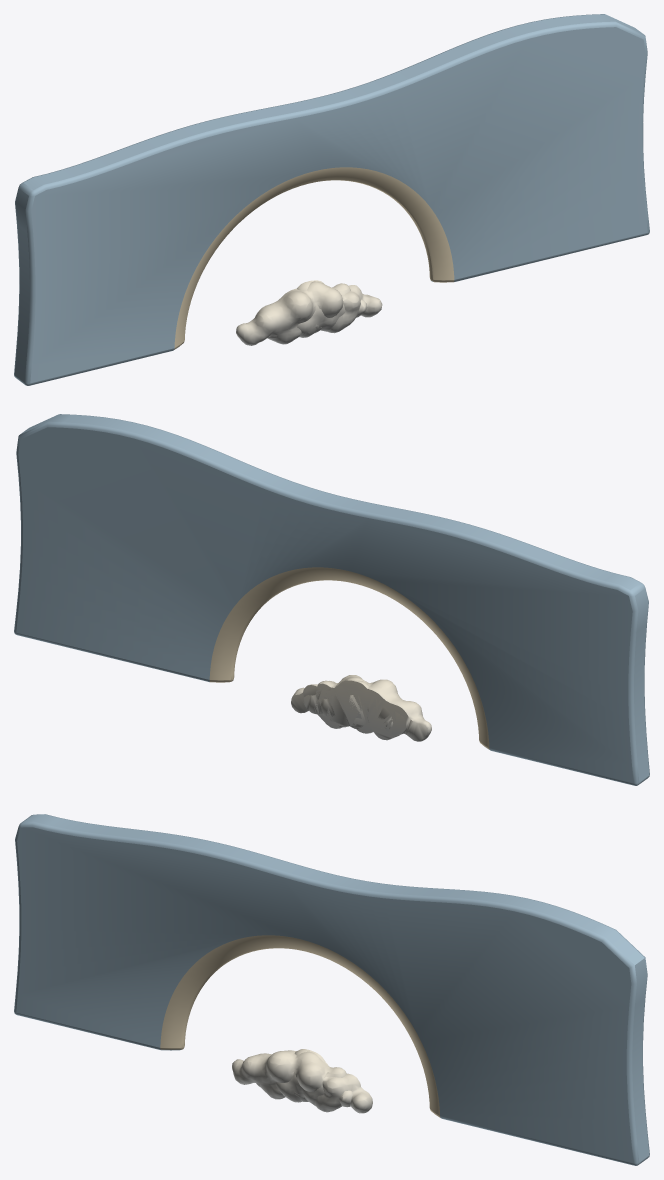
The model's file is playroom-entry-shell.glb.
3 views of the same model, one above another, from view 1: azimuth 30°, elevation 25°; view 2: azimuth 150°, elevation 25°; view 3: azimuth 330°, elevation 25° (orthographic).
Visible parts, largest first — view 1: RainbowPortalWall — Portal wall, CloudReliefC — CloudReliefCRelief, CloudReliefA — CloudReliefARelief; view 2: RainbowPortalWall — Portal wall, CloudReliefC — CloudReliefCRelief, CloudReliefA — CloudReliefARelief, CloudReliefB — CloudReliefBRelief; view 3: RainbowPortalWall — Portal wall, CloudReliefC — CloudReliefCRelief, CloudReliefA — CloudReliefARelief.
Part boxes in pixels (x1,y1,x2,y2): RainbowPortalWall — Portal wall: (14, 14, 649, 385); CloudReliefC — CloudReliefCRelief: (236, 281, 382, 345); CloudReliefA — CloudReliefARelief: (267, 280, 366, 339); RainbowPortalWall — Portal wall: (14, 414, 649, 785); CloudReliefC — CloudReliefCRelief: (291, 675, 431, 741); CloudReliefA — CloudReliefARelief: (303, 680, 406, 734); CloudReliefB — CloudReliefBRelief: (315, 692, 392, 728); RainbowPortalWall — Portal wall: (14, 814, 649, 1165); CloudReliefC — CloudReliefCRelief: (232, 1050, 372, 1113); CloudReliefA — CloudReliefARelief: (256, 1049, 352, 1107).
Bounding box in the file's own units: 37.96 × 14.7 × 2.43.
